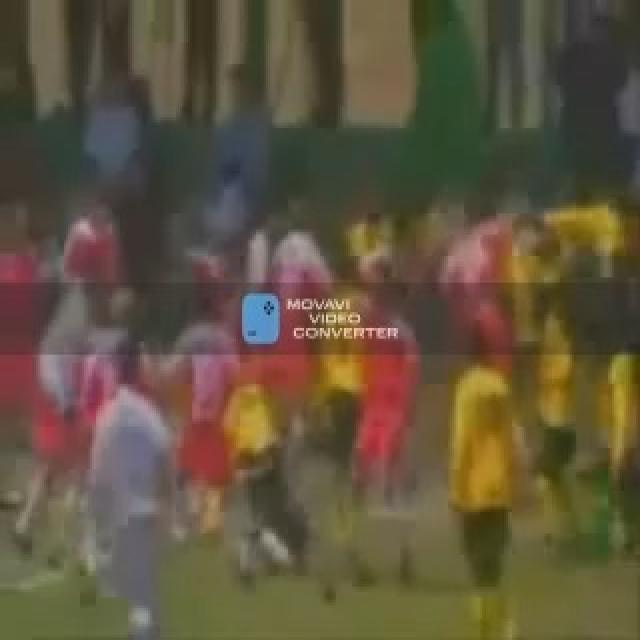non-voilence: (2, 173, 638, 638), (444, 302, 520, 638), (240, 291, 280, 344)
